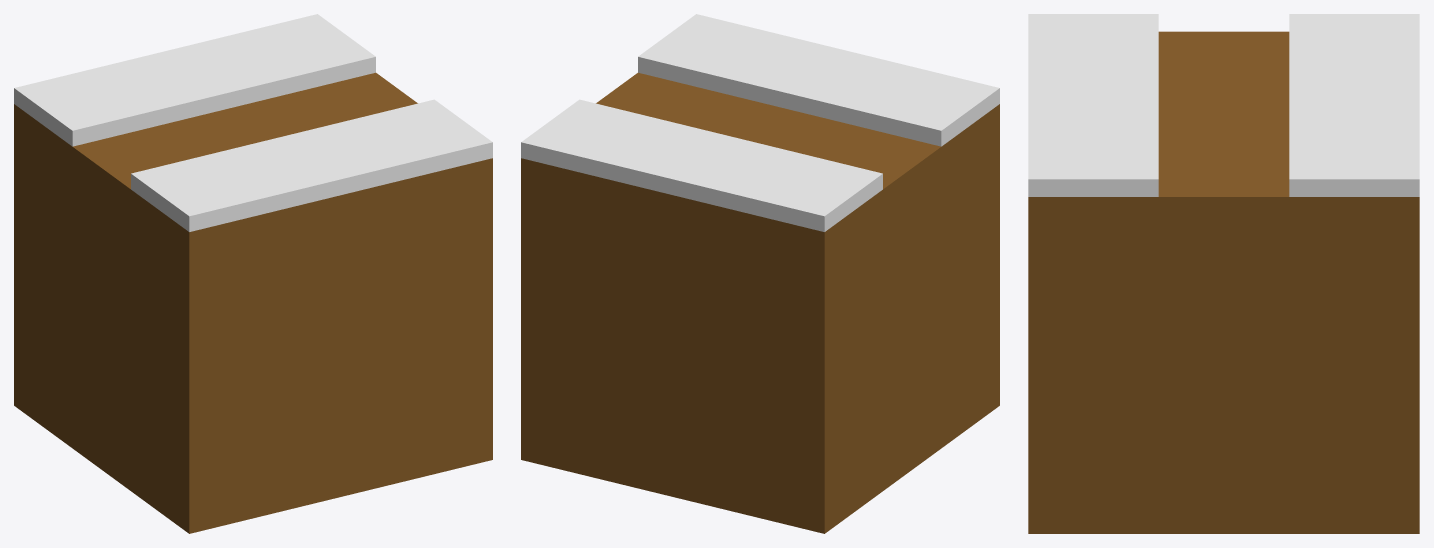
File: WinterStraightCube.fbx
3 renders of one model, left to right at view 1: azimuth 30°, elevation 25°; view 2: azimuth 150°, elevation 25°; view 3: azimuth 270°, elevation 25°, orthographic. The views are drawn at different scales.
Parts seen in each view (by area): view 1: WinterStraightCube; view 2: WinterStraightCube; view 3: WinterStraightCube.
Boxes of the visible parts, <box> form: WinterStraightCube: <box>14,14,492,533</box>; WinterStraightCube: <box>521,14,999,533</box>; WinterStraightCube: <box>1028,14,1419,533</box>.
Bounding box in the file's own units: 1 × 1 × 1.
